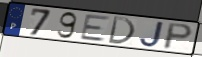7: (29, 6, 53, 37)
9: (56, 11, 79, 40)
D: (106, 15, 137, 46)
E: (79, 14, 112, 43)
J: (138, 20, 166, 48)
P: (161, 22, 195, 51)
